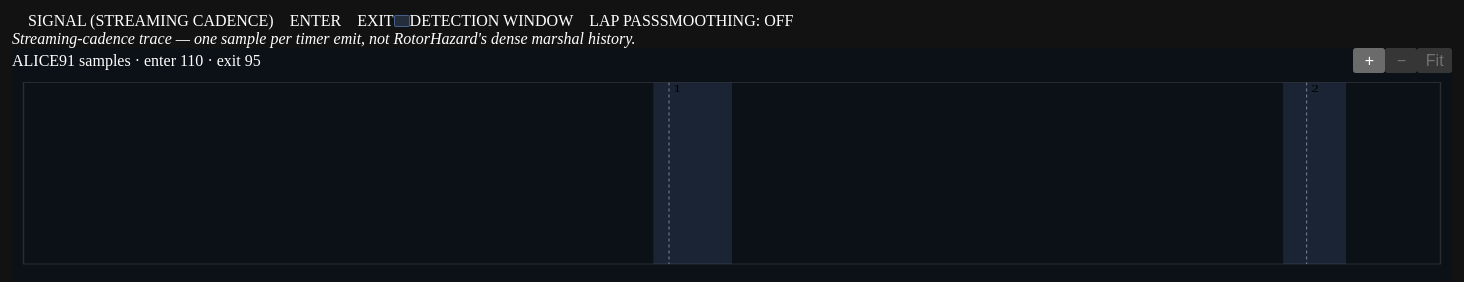
Scenario: zoom & pan › the caption +/− buttons zoom without a wheel
The image size is (1464, 282).
Click the button named "Zoom in" at (1369,61), box [1353,48,1385,73]
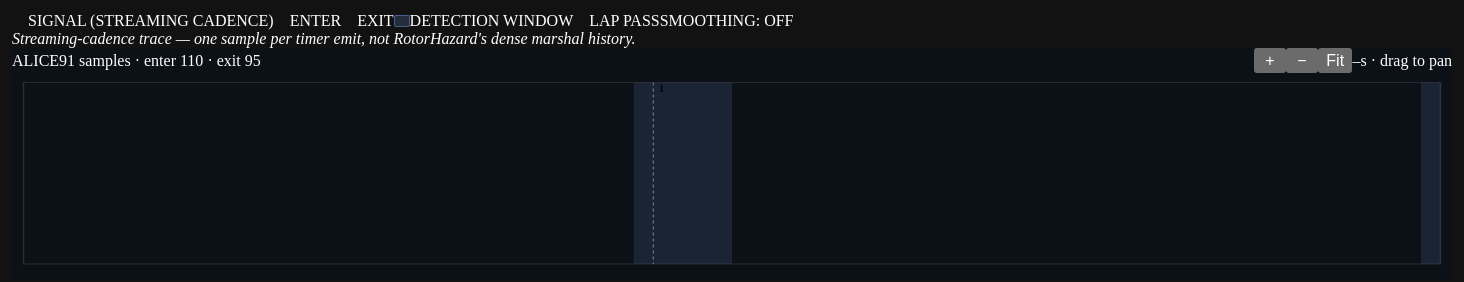
expect the text "–s · drag to pan" is shown: met, box [1352,52,1452,70]
Click the button named "Zoom out" at (1302,61), box [1286,48,1318,73]
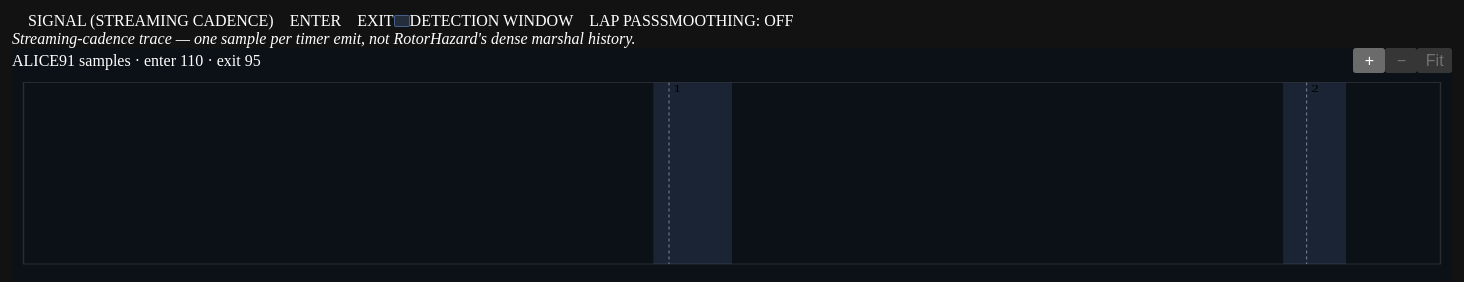
expect the text "drag to pan" is gone: met
